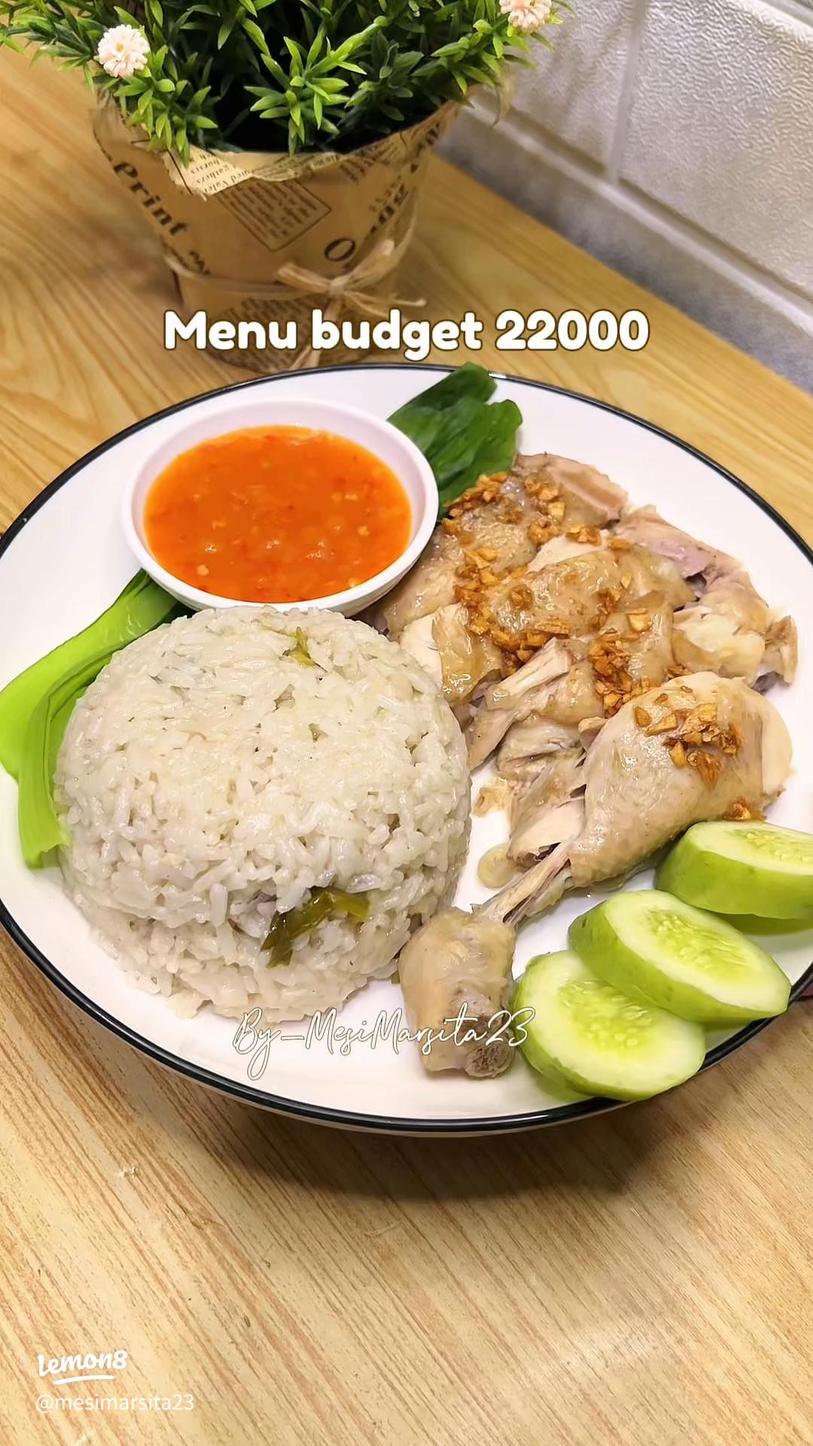buah_sayur_lainnya: (197, 458, 365, 557), (611, 923, 735, 1020)
daging: (477, 527, 718, 764)
makanan_berpati: (156, 683, 385, 841)
